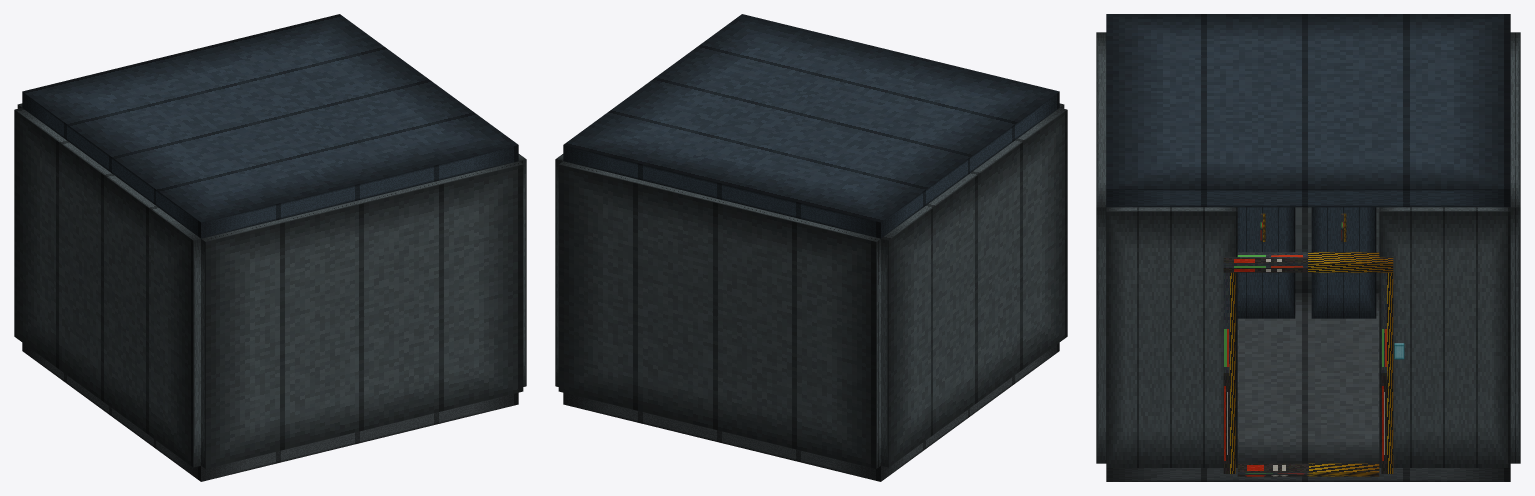
File: sala_3.obj
3 renders of one model, left to right at view 1: azimuth 30°, elevation 25°; view 2: azimuth 150°, elevation 25°; view 3: azimuth 270°, elevation 25°, orthographic. The views are drawn at different scales.
Bounding box in the file's own units: 4.44 × 3.2 × 4.2.
Materials: 6 (6 with a texture image).
